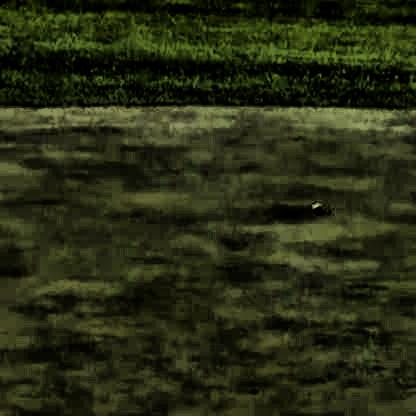golfball: (309, 196, 319, 209)
